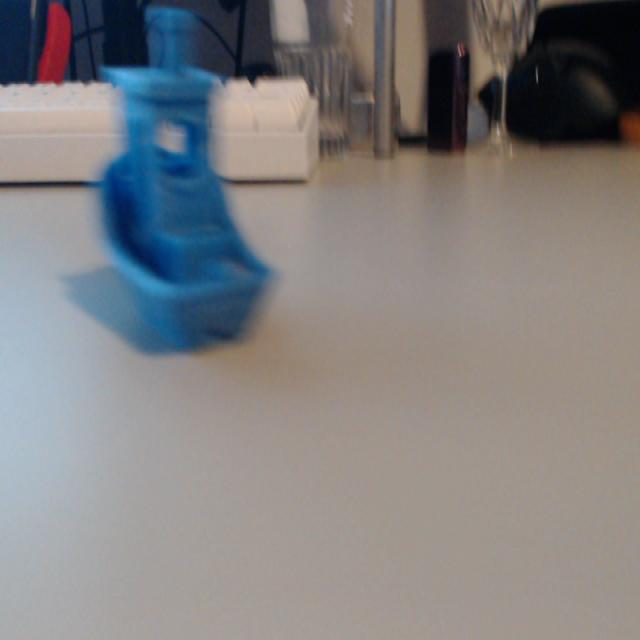benchy: (90, 4, 279, 352)
